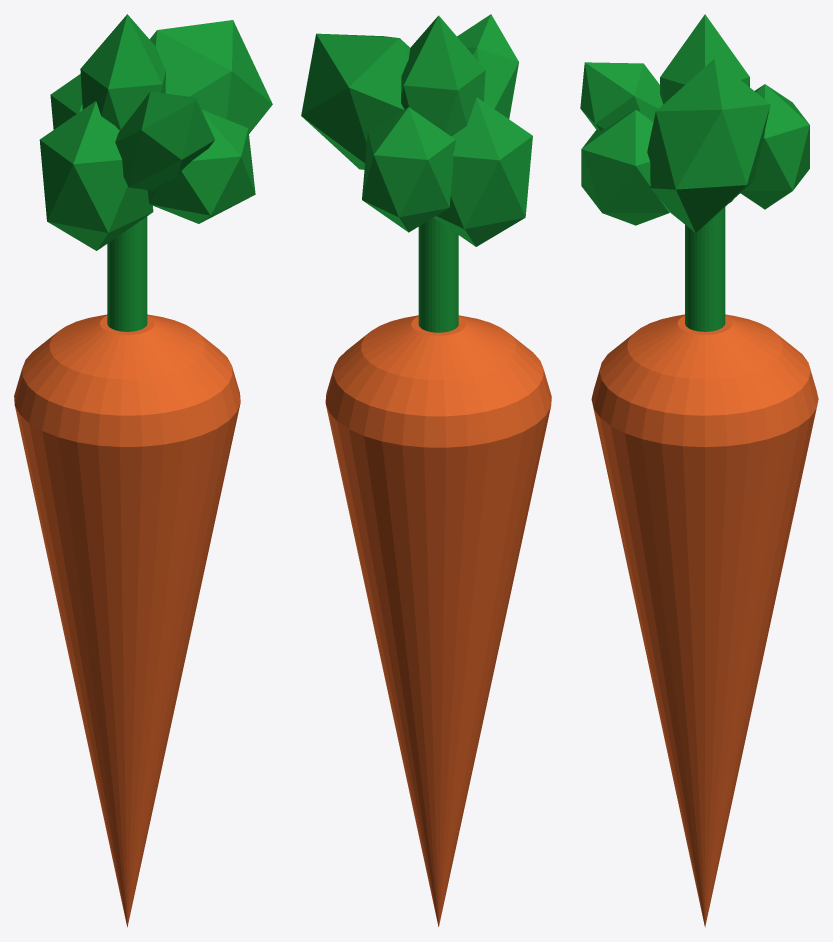
File: Carrot.fbx
The picture shows the model from 3 angles, left to right: view 1: azimuth 30°, elevation 25°; view 2: azimuth 150°, elevation 25°; view 3: azimuth 270°, elevation 25°; orthographic projection.
Parts seen in each view (by area): view 1: Cone, Icosphere.002, Icosphere.001, Icosphere.003, Icosphere.004, Icosphere, Cylinder, Icosphere.005; view 2: Cone, Icosphere.001, Icosphere.002, Icosphere.005, Icosphere, Cylinder, Icosphere.003; view 3: Cone, Icosphere.001, Icosphere.004, Icosphere.005, Cylinder, Icosphere.003, Icosphere.
Part boxes in pixels (x1,y1,x2,y2): Cone: [14, 314, 240, 927]; Icosphere.002: [39, 101, 153, 250]; Icosphere.001: [149, 20, 272, 133]; Icosphere.003: [115, 91, 214, 190]; Icosphere.004: [147, 109, 255, 223]; Icosphere: [80, 14, 165, 130]; Cylinder: [107, 216, 147, 331]; Icosphere.005: [50, 74, 82, 129]; Cone: [325, 315, 551, 926]; Icosphere.001: [301, 33, 410, 169]; Icosphere.002: [434, 97, 532, 246]; Icosphere.005: [362, 107, 455, 232]; Icosphere: [401, 15, 485, 136]; Cylinder: [418, 217, 458, 332]; Icosphere.003: [457, 14, 518, 118]; Cone: [591, 314, 818, 927]; Icosphere.001: [647, 58, 770, 232]; Icosphere.004: [581, 110, 669, 225]; Icosphere.005: [740, 84, 809, 209]; Cylinder: [685, 207, 725, 331]; Icosphere.003: [580, 62, 663, 130]; Icosphere: [660, 14, 749, 104].
Bounding box in the file's own units: 57.97 × 221 × 52.19.
